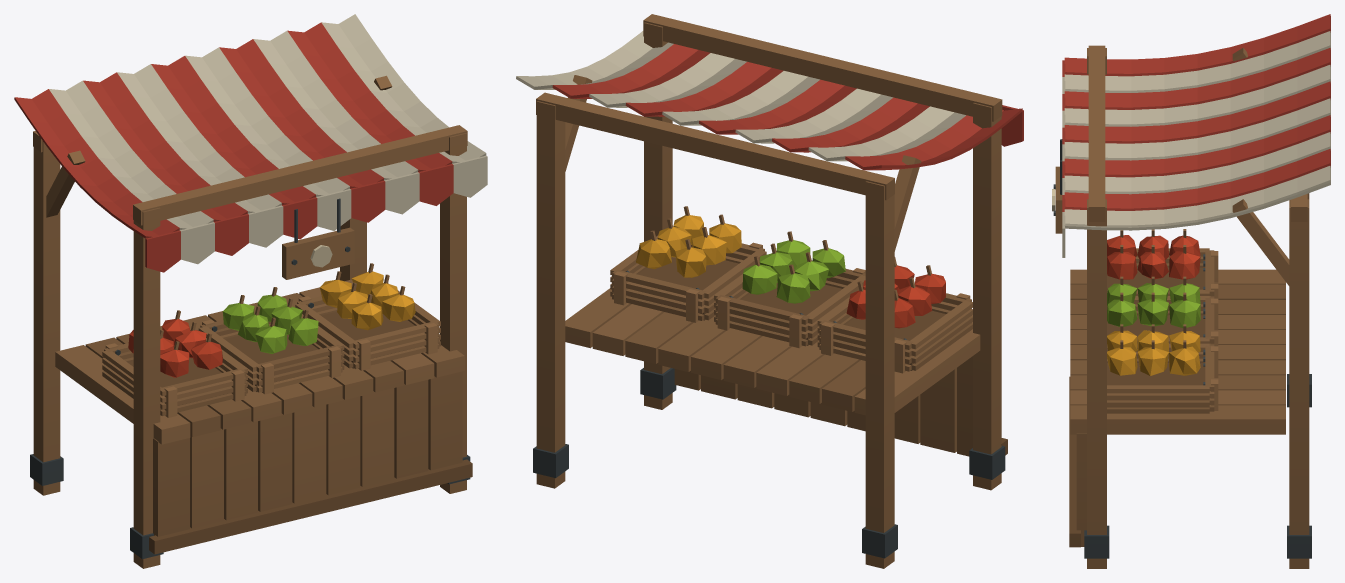
File: town_stall_fruit.glb
3 views of the same model, side by side, from view 1: azimuth 30°, elevation 25°; view 2: azimuth 150°, elevation 25°; view 3: azimuth 270°, elevation 25° (orthographic). The views are drawn at different scales.
Parts seen in each view (by area): view 1: town_stall_fruit; view 2: town_stall_fruit; view 3: town_stall_fruit.
Part boxes in pixels (bbox=[...]): town_stall_fruit: bbox=[14, 14, 487, 568]; town_stall_fruit: bbox=[516, 14, 1023, 568]; town_stall_fruit: bbox=[1052, 14, 1330, 568].
Bounding box in the file's own units: 2.4 × 2.6 × 1.68.
